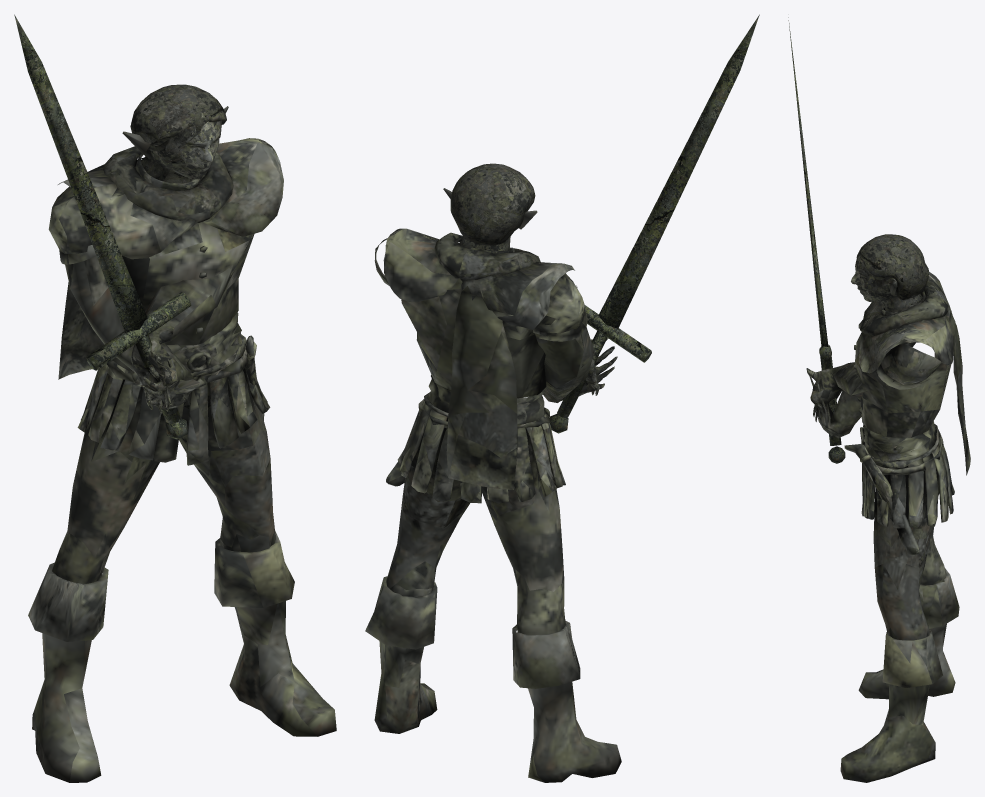
The model's file is mm8_deco_elfstatue.glb.
3 renders of one model, left to right at view 1: azimuth 30°, elevation 25°; view 2: azimuth 150°, elevation 25°; view 3: azimuth 270°, elevation 25°, orthographic. The views are drawn at different scales.
Parts seen in each view (by area): view 1: Elfstatue; view 2: Elfstatue; view 3: Elfstatue.
Boxes of the visible parts, x1,y1,x2,y2 form: Elfstatue: (14,14,336,782); Elfstatue: (365,14,759,782); Elfstatue: (788,17,970,782).
Size of the model in its own units: 0.995 by 2.15 by 0.5638.
2 materials, 2 textured.
